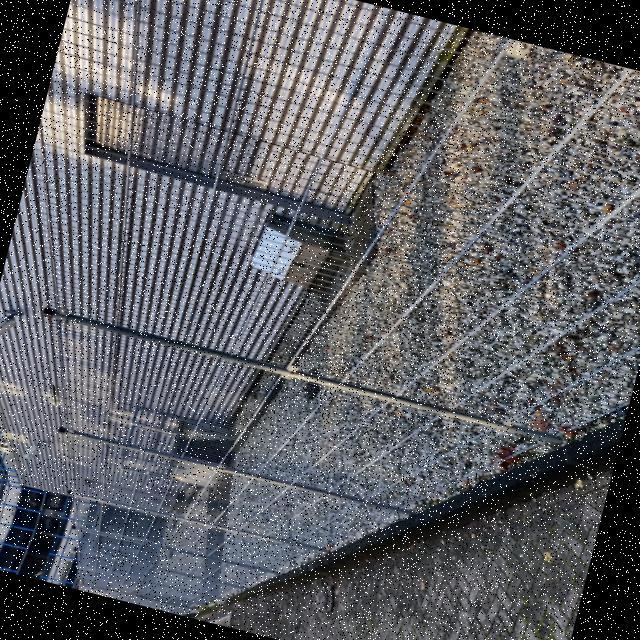fence line: (44, 0, 639, 528), (63, 273, 531, 639)
